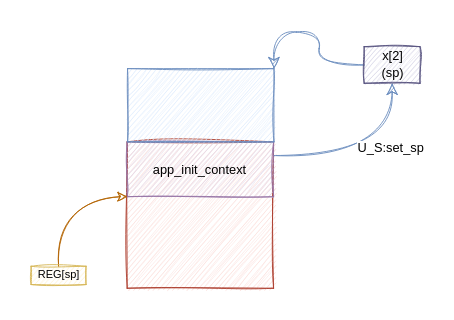
Image size: 454x320. Some labels were removed from this diagram. Here are the shapes that lost their labels. From the top down, the box of each, then its label:
(126, 67, 274, 141): USER_STACK
(126, 141, 273, 288): KERNEL_STACK
